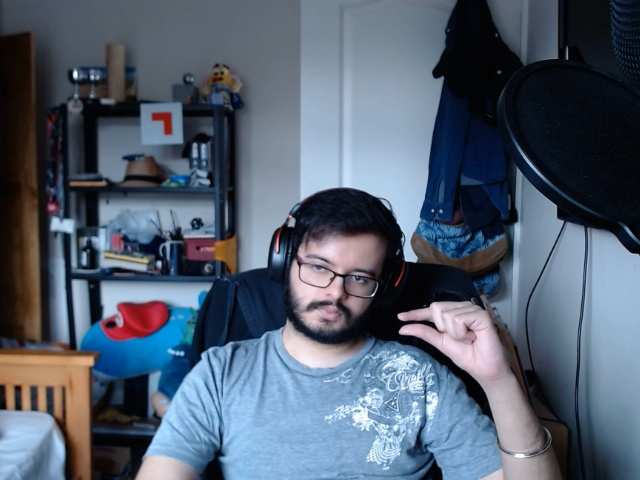Small: (390, 286, 519, 374)
